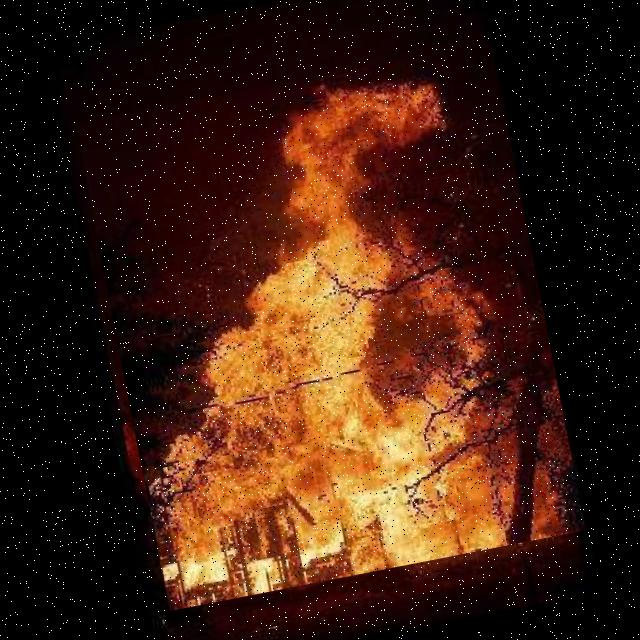fire: (75, 42, 586, 611)
